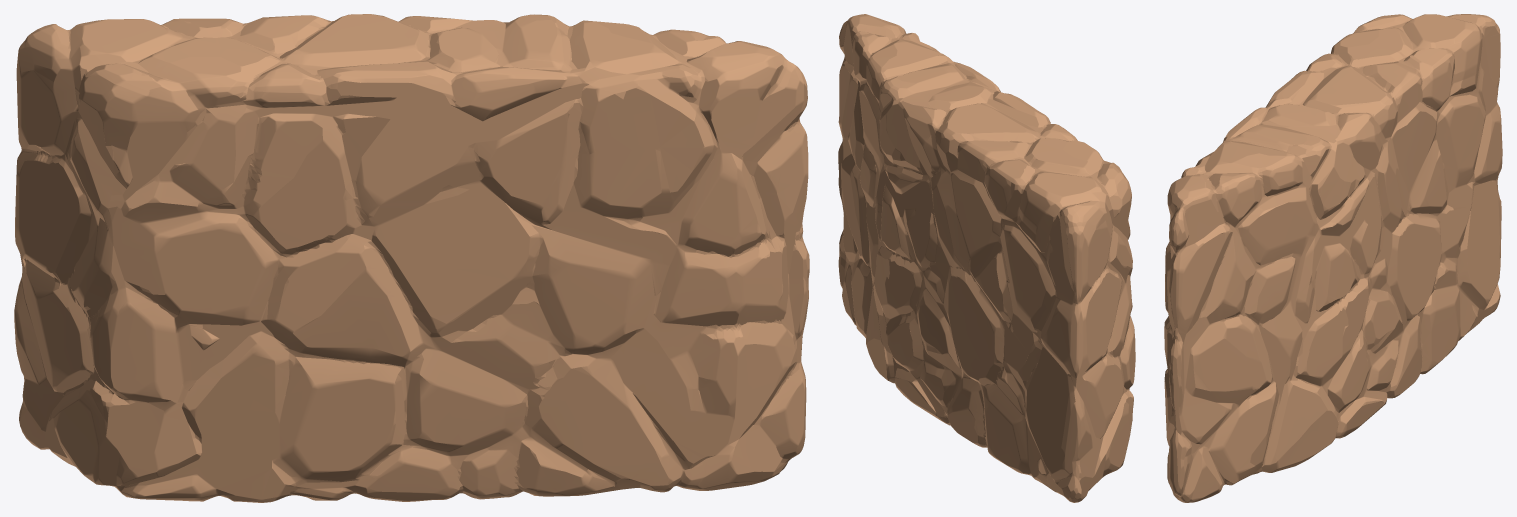
The picture shows the model from 3 angles, left to right: view 1: azimuth 30°, elevation 25°; view 2: azimuth 150°, elevation 25°; view 3: azimuth 270°, elevation 25°; orthographic projection. The views are drawn at different scales.
Parts seen in each view (by area): view 1: Mesh_3_LOD0; view 2: Mesh_3_LOD0; view 3: Mesh_3_LOD0.
Boxes of the visible parts, box(x1,y1,x2,y2) form: Mesh_3_LOD0: box(14, 14, 809, 502); Mesh_3_LOD0: box(838, 14, 1135, 502); Mesh_3_LOD0: box(1164, 14, 1502, 502).
Size of what is drawn, in the model's own units: 5409 by 3929 by 3839.
